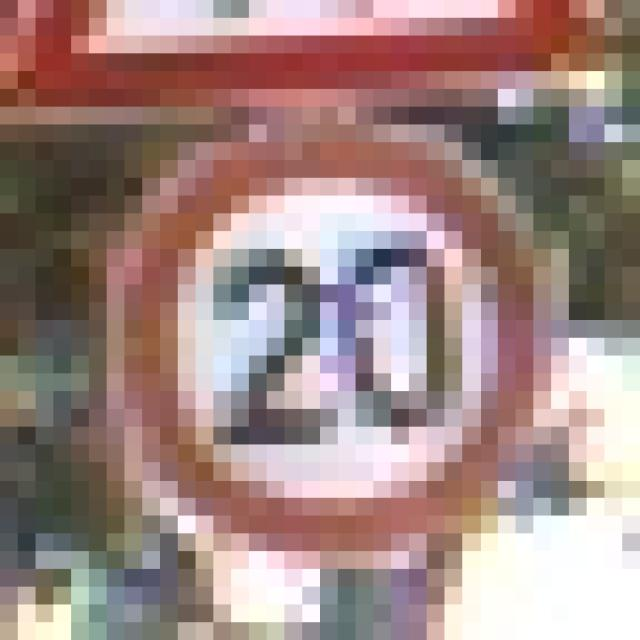Speed Limit -20-: (89, 107, 551, 551)
